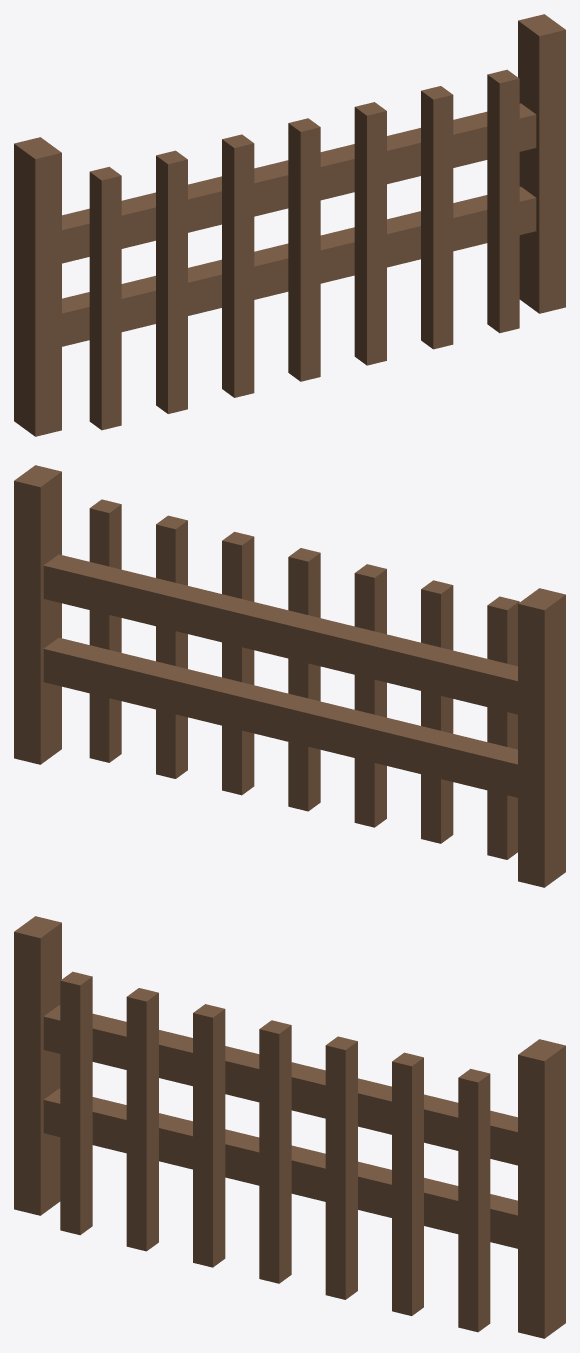
Rendered from fence_2m.glb.
The picture shows the model from 3 angles, top to bottom: view 1: azimuth 30°, elevation 25°; view 2: azimuth 150°, elevation 25°; view 3: azimuth 330°, elevation 25°; orthographic projection.
Visible parts, largest first — view 1: Post00, Rail00, Rail01, Post01, Picket06, Picket02, Picket03, Picket04, Picket00, Picket05, Picket01; view 2: Rail01, Rail00, Post00, Post01, Picket01, Picket03, Picket06, Picket02, Picket04, Picket05, Picket00; view 3: Post01, Rail00, Rail01, Post00, Picket00, Picket02, Picket03, Picket04, Picket06, Picket01, Picket05.
Part boxes in pixels (x1=…): Post00: x1=14, y1=137, x2=61, y2=436; Rail00: x1=62, y1=186, x2=536, y2=346; Rail01: x1=62, y1=103, x2=536, y2=263; Post01: x1=518, y1=14, x2=565, y2=313; Picket06: x1=487, y1=69, x2=519, y2=333; Picket02: x1=222, y1=134, x2=254, y2=397; Picket03: x1=288, y1=118, x2=320, y2=381; Picket04: x1=354, y1=102, x2=386, y2=365; Picket00: x1=89, y1=166, x2=121, y2=430; Picket05: x1=421, y1=86, x2=453, y2=349; Picket01: x1=156, y1=150, x2=187, y2=413; Rail01: x1=43, y1=554, x2=517, y2=714; Rail00: x1=43, y1=637, x2=517, y2=797; Post00: x1=518, y1=588, x2=565, y2=887; Post01: x1=14, y1=465, x2=61, y2=764; Picket01: x1=421, y1=580, x2=453, y2=843; Picket03: x1=288, y1=548, x2=320, y2=811; Picket06: x1=89, y1=499, x2=121, y2=762; Picket02: x1=354, y1=564, x2=386, y2=827; Picket04: x1=222, y1=531, x2=254, y2=795; Picket05: x1=156, y1=515, x2=187, y2=778; Picket00: x1=487, y1=596, x2=519, y2=859; Post01: x1=518, y1=1039, x2=565, y2=1338; Rail00: x1=43, y1=1088, x2=517, y2=1248; Rail01: x1=43, y1=1005, x2=517, y2=1165; Post00: x1=14, y1=916, x2=61, y2=1215; Picket00: x1=60, y1=971, x2=92, y2=1235; Picket02: x1=193, y1=1004, x2=225, y2=1267; Picket03: x1=259, y1=1020, x2=291, y2=1283; Picket04: x1=325, y1=1036, x2=357, y2=1299; Picket06: x1=458, y1=1068, x2=490, y2=1332; Picket01: x1=126, y1=988, x2=158, y2=1251; Picket05: x1=392, y1=1052, x2=423, y2=1315.
Bounding box in the file's own units: 2 × 1 × 0.205.
